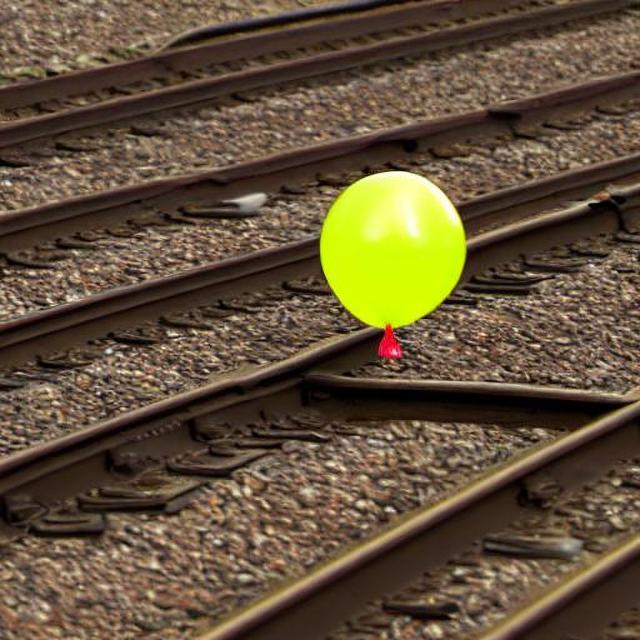balloon: (312, 164, 468, 343)
